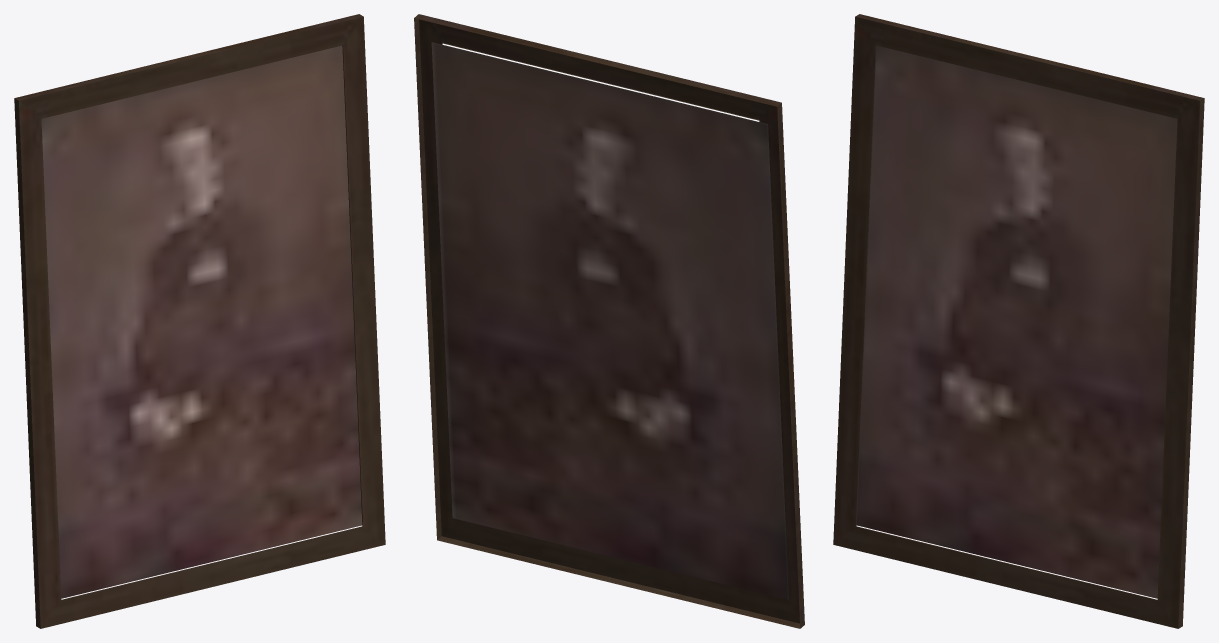
File: portrait-small-3.glb
The picture shows the model from 3 angles, left to right: view 1: azimuth 30°, elevation 25°; view 2: azimuth 150°, elevation 25°; view 3: azimuth 330°, elevation 25°; orthographic projection. The views are drawn at different scales.
Parts seen in each view (by area): view 1: portrait-small-3; view 2: portrait-small-3; view 3: portrait-small-3.
Part boxes in pixels (x1,y1,x2,y2): portrait-small-3: [14, 14, 385, 628]; portrait-small-3: [414, 14, 804, 628]; portrait-small-3: [833, 14, 1204, 628].
Bounding box in the file's own units: 0.0946 × 0.1343 × 0.0125.
1 material, 1 textured.
